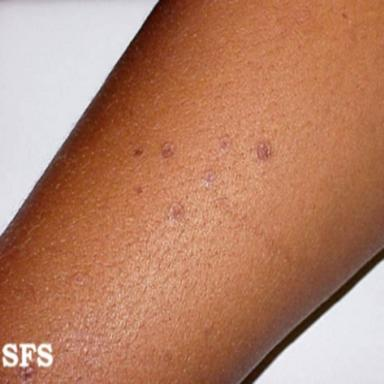Porokeratosis: (168, 203, 185, 225), (256, 141, 272, 161), (202, 169, 217, 188), (19, 366, 35, 383), (161, 141, 175, 158), (219, 136, 230, 154)
